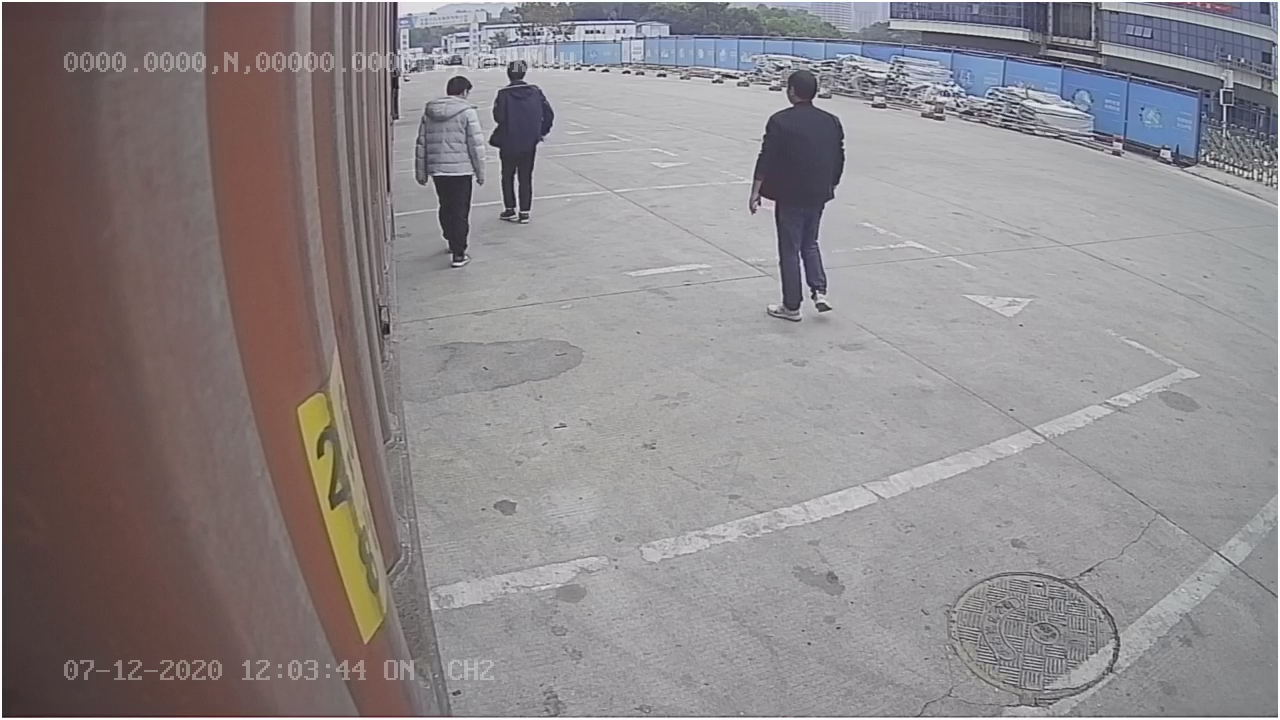person: (749, 62, 847, 323)
